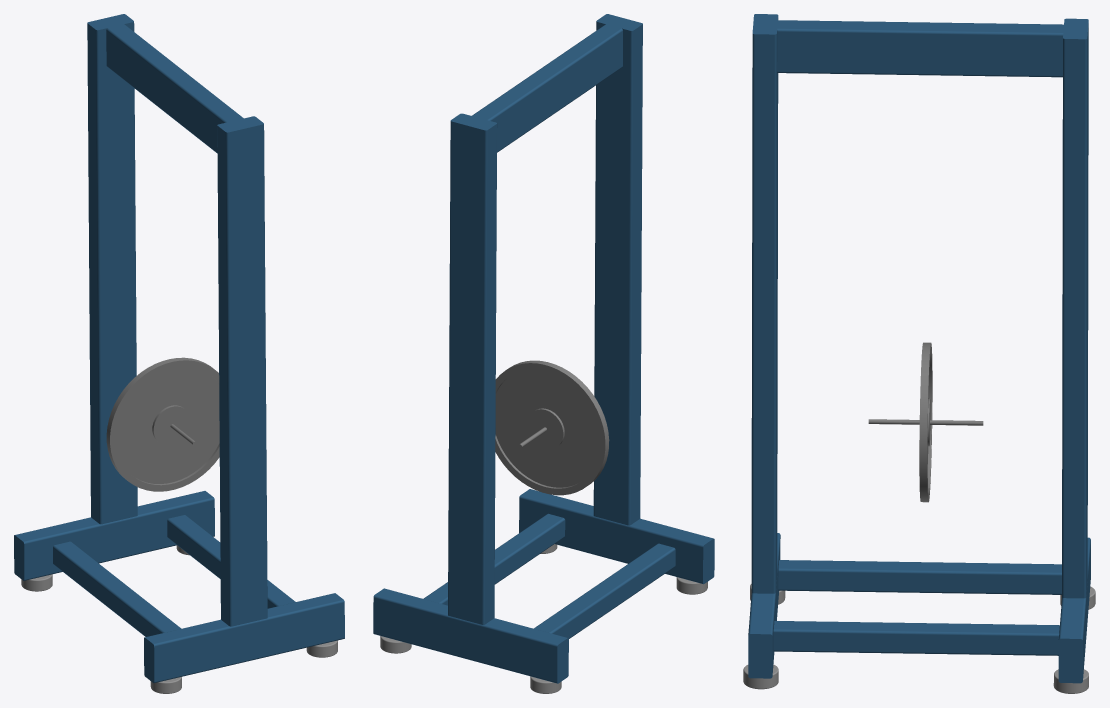
The model's file is gunbai.glb.
3 renders of one model, left to right at view 1: azimuth 30°, elevation 25°; view 2: azimuth 150°, elevation 25°; view 3: azimuth 270°, elevation 25°, orthographic. The views are drawn at different scales.
Visible parts, largest first — view 1: 架子-1_侧架-1, 架子-1_侧架-2, 摆-2, 架子-1_底-1, 架子-1_底-2, 架子-1_上梁-1, 架子-1_底架2-2, 架子-1_底架2-3; view 2: 架子-1_侧架-2, 架子-1_侧架-1, 摆-2, 架子-1_底-2, 架子-1_底-1, 架子-1_上梁-1, 架子-1_底架2-2, 架子-1_底架2-3; view 3: 架子-1_上梁-1, 架子-1_侧架-2, 架子-1_侧架-1, 架子-1_底架2-3, 架子-1_底架2-2, 架子-1_底-2, 架子-1_底-1, 摆-2, 棍-2.
Boxes of the visible parts, x1=… form: 架子-1_侧架-1: x1=217, y1=116, x2=267, y2=626; 架子-1_侧架-2: x1=87, y1=14, x2=137, y2=524; 摆-2: x1=106, y1=357, x2=219, y2=491; 架子-1_底-1: x1=144, y1=593, x2=344, y2=683; 架子-1_底-2: x1=14, y1=491, x2=214, y2=580; 架子-1_上梁-1: x1=106, y1=24, x2=243, y2=153; 架子-1_底架2-2: x1=53, y1=541, x2=181, y2=636; 架子-1_底架2-3: x1=167, y1=515, x2=295, y2=608; 架子-1_侧架-2: x1=448, y1=113, x2=497, y2=624; 架子-1_侧架-1: x1=593, y1=14, x2=642, y2=525; 摆-2: x1=495, y1=360, x2=609, y2=495; 架子-1_底-2: x1=373, y1=588, x2=568, y2=683; 架子-1_底-1: x1=519, y1=489, x2=714, y2=584; 架子-1_上梁-1: x1=472, y1=24, x2=622, y2=152; 架子-1_底架2-2: x1=534, y1=543, x2=675, y2=638; 架子-1_底架2-3: x1=423, y1=513, x2=565, y2=605; 架子-1_上梁-1: x1=777, y1=20, x2=1063, y2=77; 架子-1_侧架-2: x1=1062, y1=18, x2=1088, y2=598; 架子-1_侧架-1: x1=751, y1=14, x2=778, y2=593; 架子-1_底架2-3: x1=773, y1=621, x2=1059, y2=655; 架子-1_底架2-2: x1=778, y1=560, x2=1061, y2=594; 架子-1_底-2: x1=1058, y1=537, x2=1090, y2=683; 架子-1_底-1: x1=748, y1=533, x2=780, y2=678; 摆-2: x1=919, y1=342, x2=932, y2=502; 棍-2: x1=868, y1=419, x2=983, y2=425.
Bounding box in the file's own units: 10.18 × 27.17 × 14.08.
